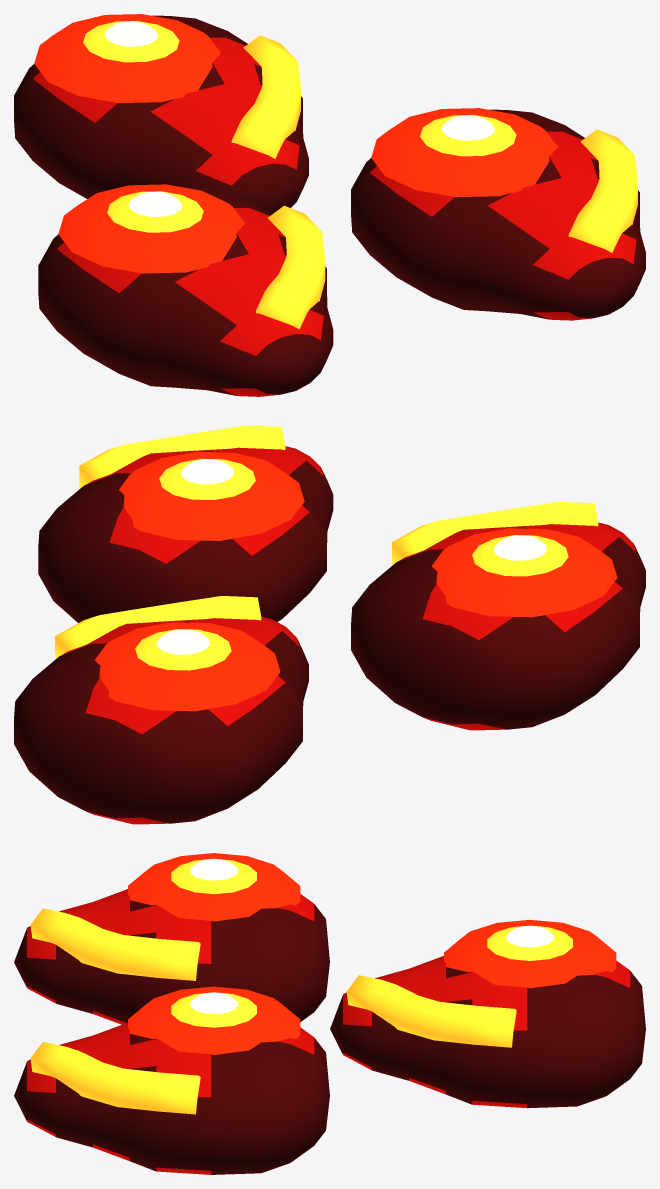
File: newshe-277-f3.glb
3 views of the same model, one above another, from view 1: azimuth 30°, elevation 25°; view 2: azimuth 150°, elevation 25°; view 3: azimuth 270°, elevation 25° (orthographic). The views are drawn at different scales.
Visible parts, largest first — view 1: newshe-277-f3; view 2: newshe-277-f3; view 3: newshe-277-f3.
Boxes of the visible parts, x1=… form: newshe-277-f3: x1=14, y1=14, x2=645, y2=396; newshe-277-f3: x1=14, y1=425, x2=645, y2=824; newshe-277-f3: x1=14, y1=853, x2=645, y2=1174.
Size of the model in its own units: 1.75 by 0.5215 by 2.
